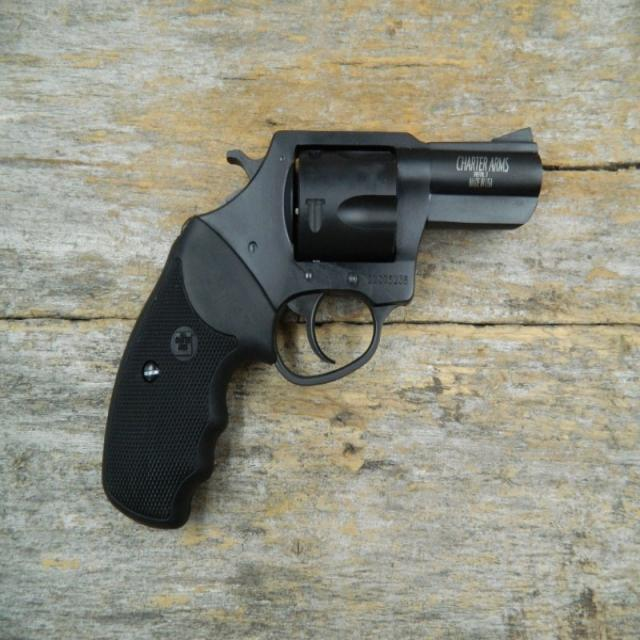Gun: (90, 105, 564, 550)
